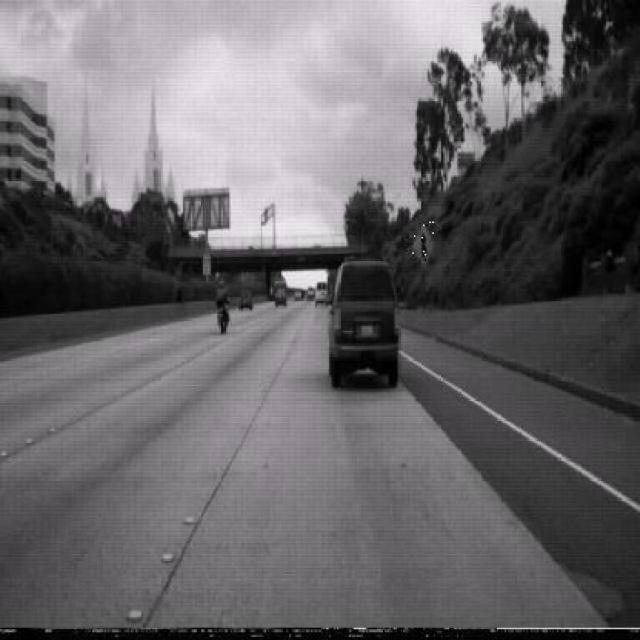merge: (411, 222, 436, 270)
